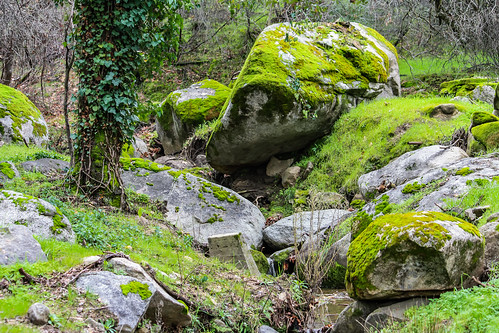rocks: (181, 3, 495, 333)
tree: (55, 1, 189, 226)
